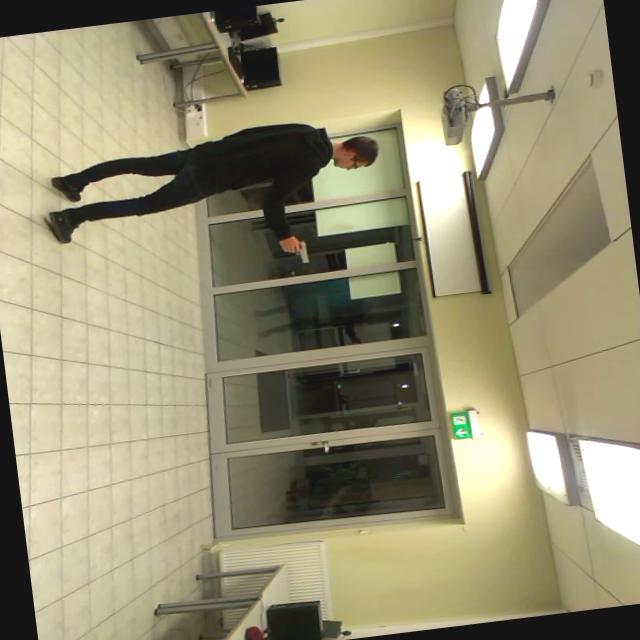handgun: (274, 236, 316, 272)
